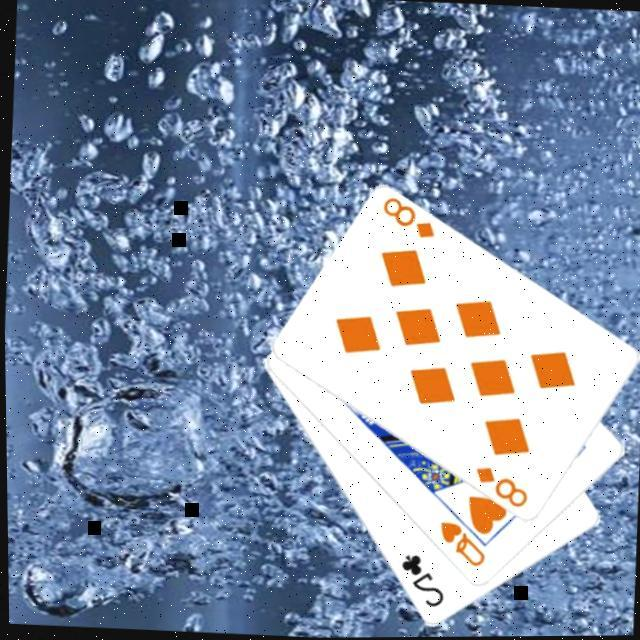2C: (391, 550, 446, 611)
8D: (375, 193, 438, 242), (468, 463, 530, 512)
QH: (431, 517, 487, 570)
